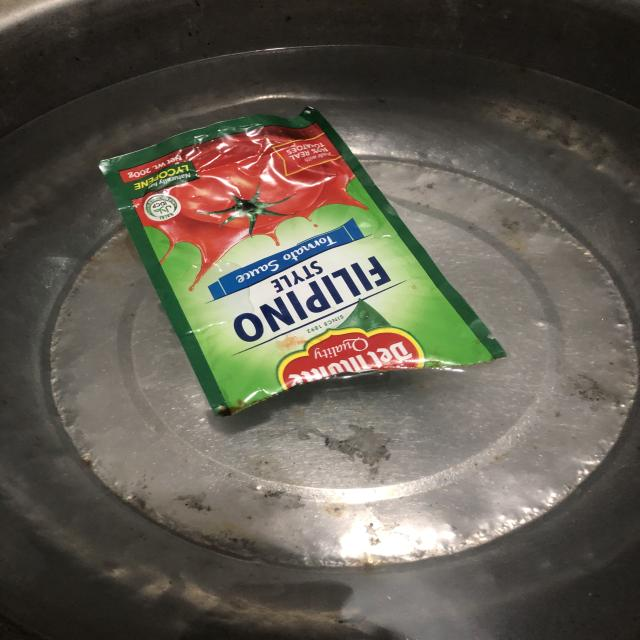Plastic Pouch: (96, 109, 526, 436)
